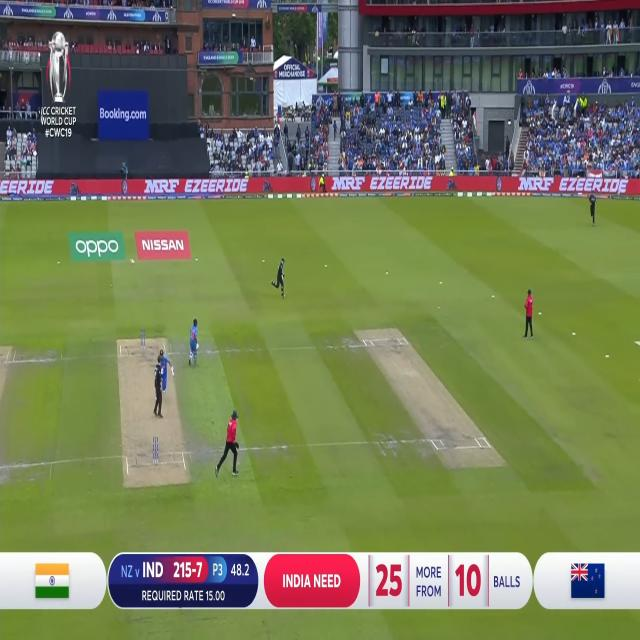ball: (436, 302, 443, 314)
